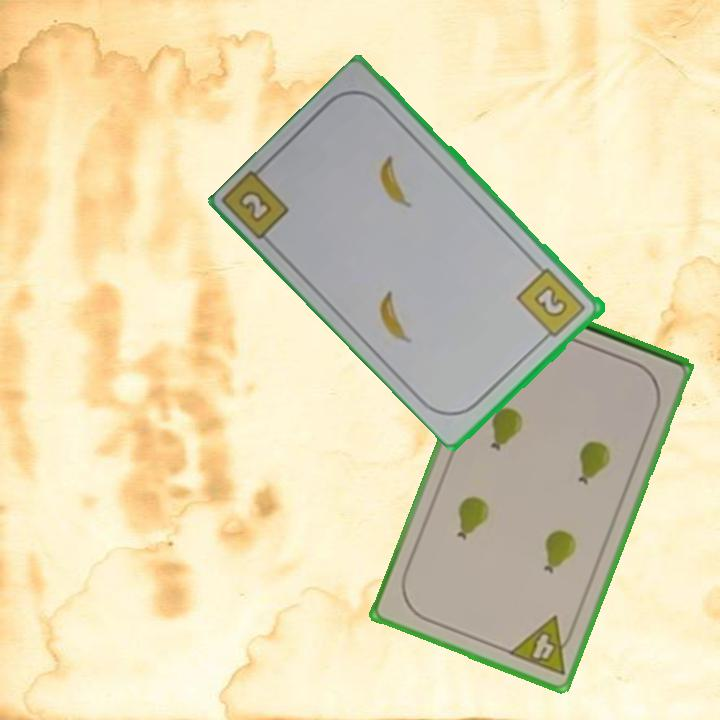2b: (513, 264, 589, 345), (235, 186, 276, 226)
4p: (505, 612, 580, 679)
